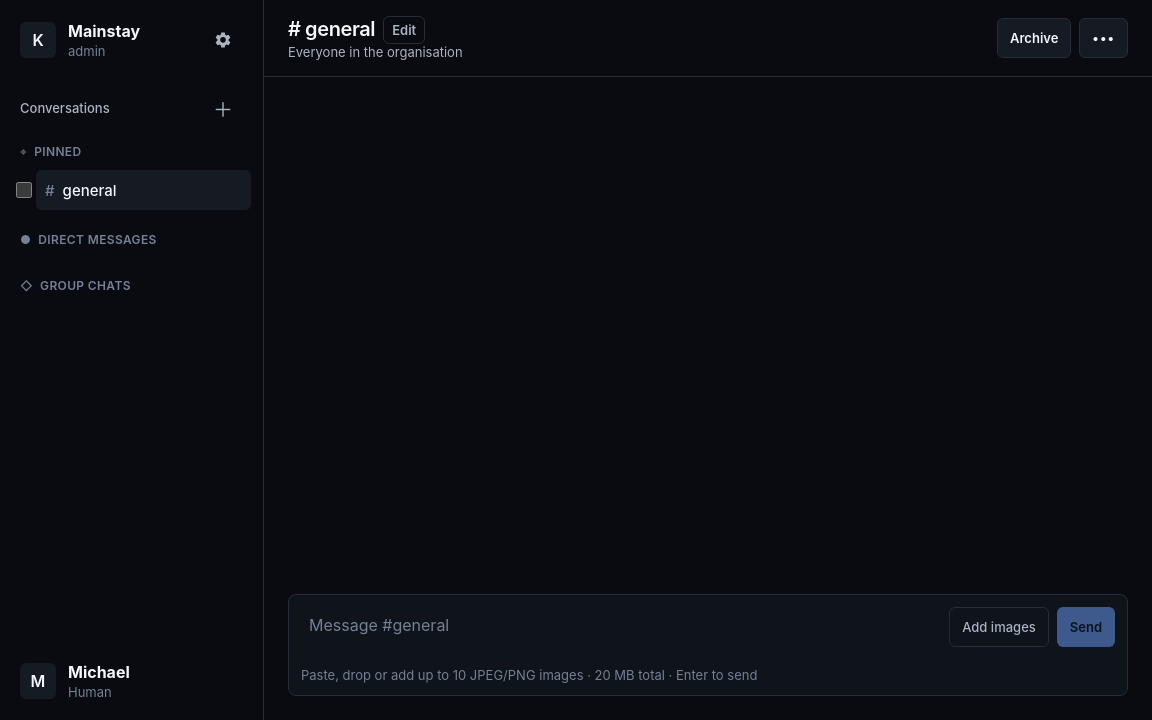
Test: K-Mainstay UI › does not let a stale conversation refresh overwrite a completed archive action
Step 1. Click the button with test id "archive-conversation" → coordinates (1034, 38), box 997,18 -> 1071,58
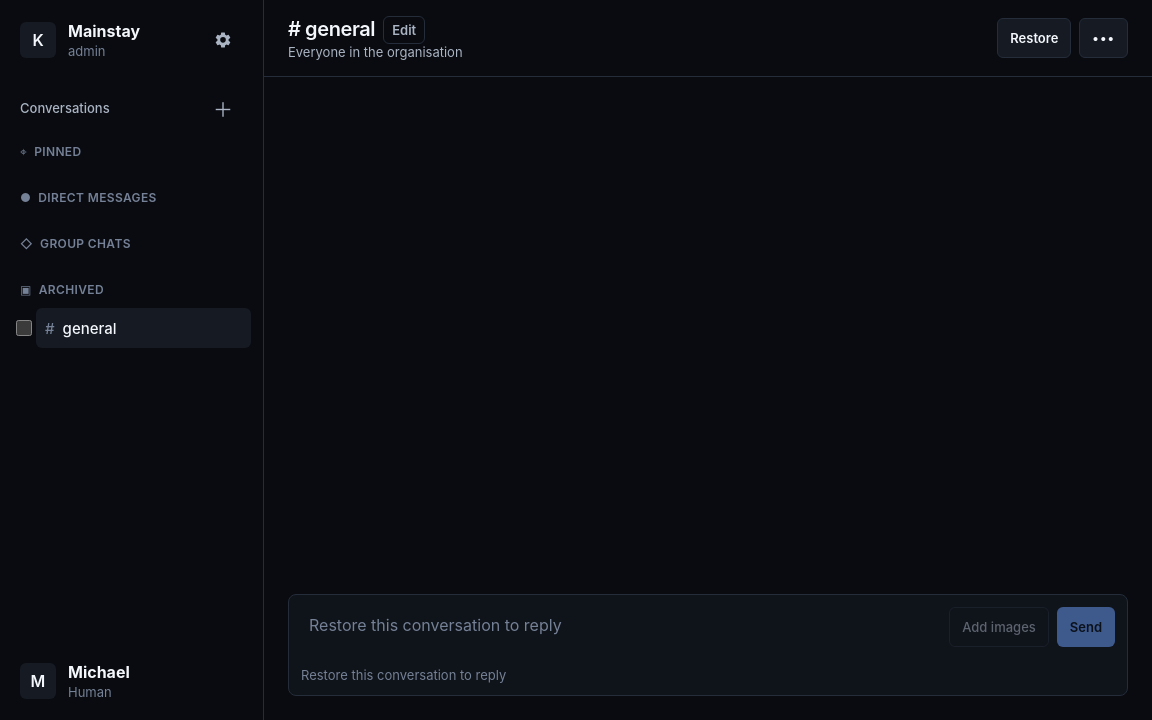
Now the element with test id "archived-conversations" shows "general", box 36,308 -> 251,348
